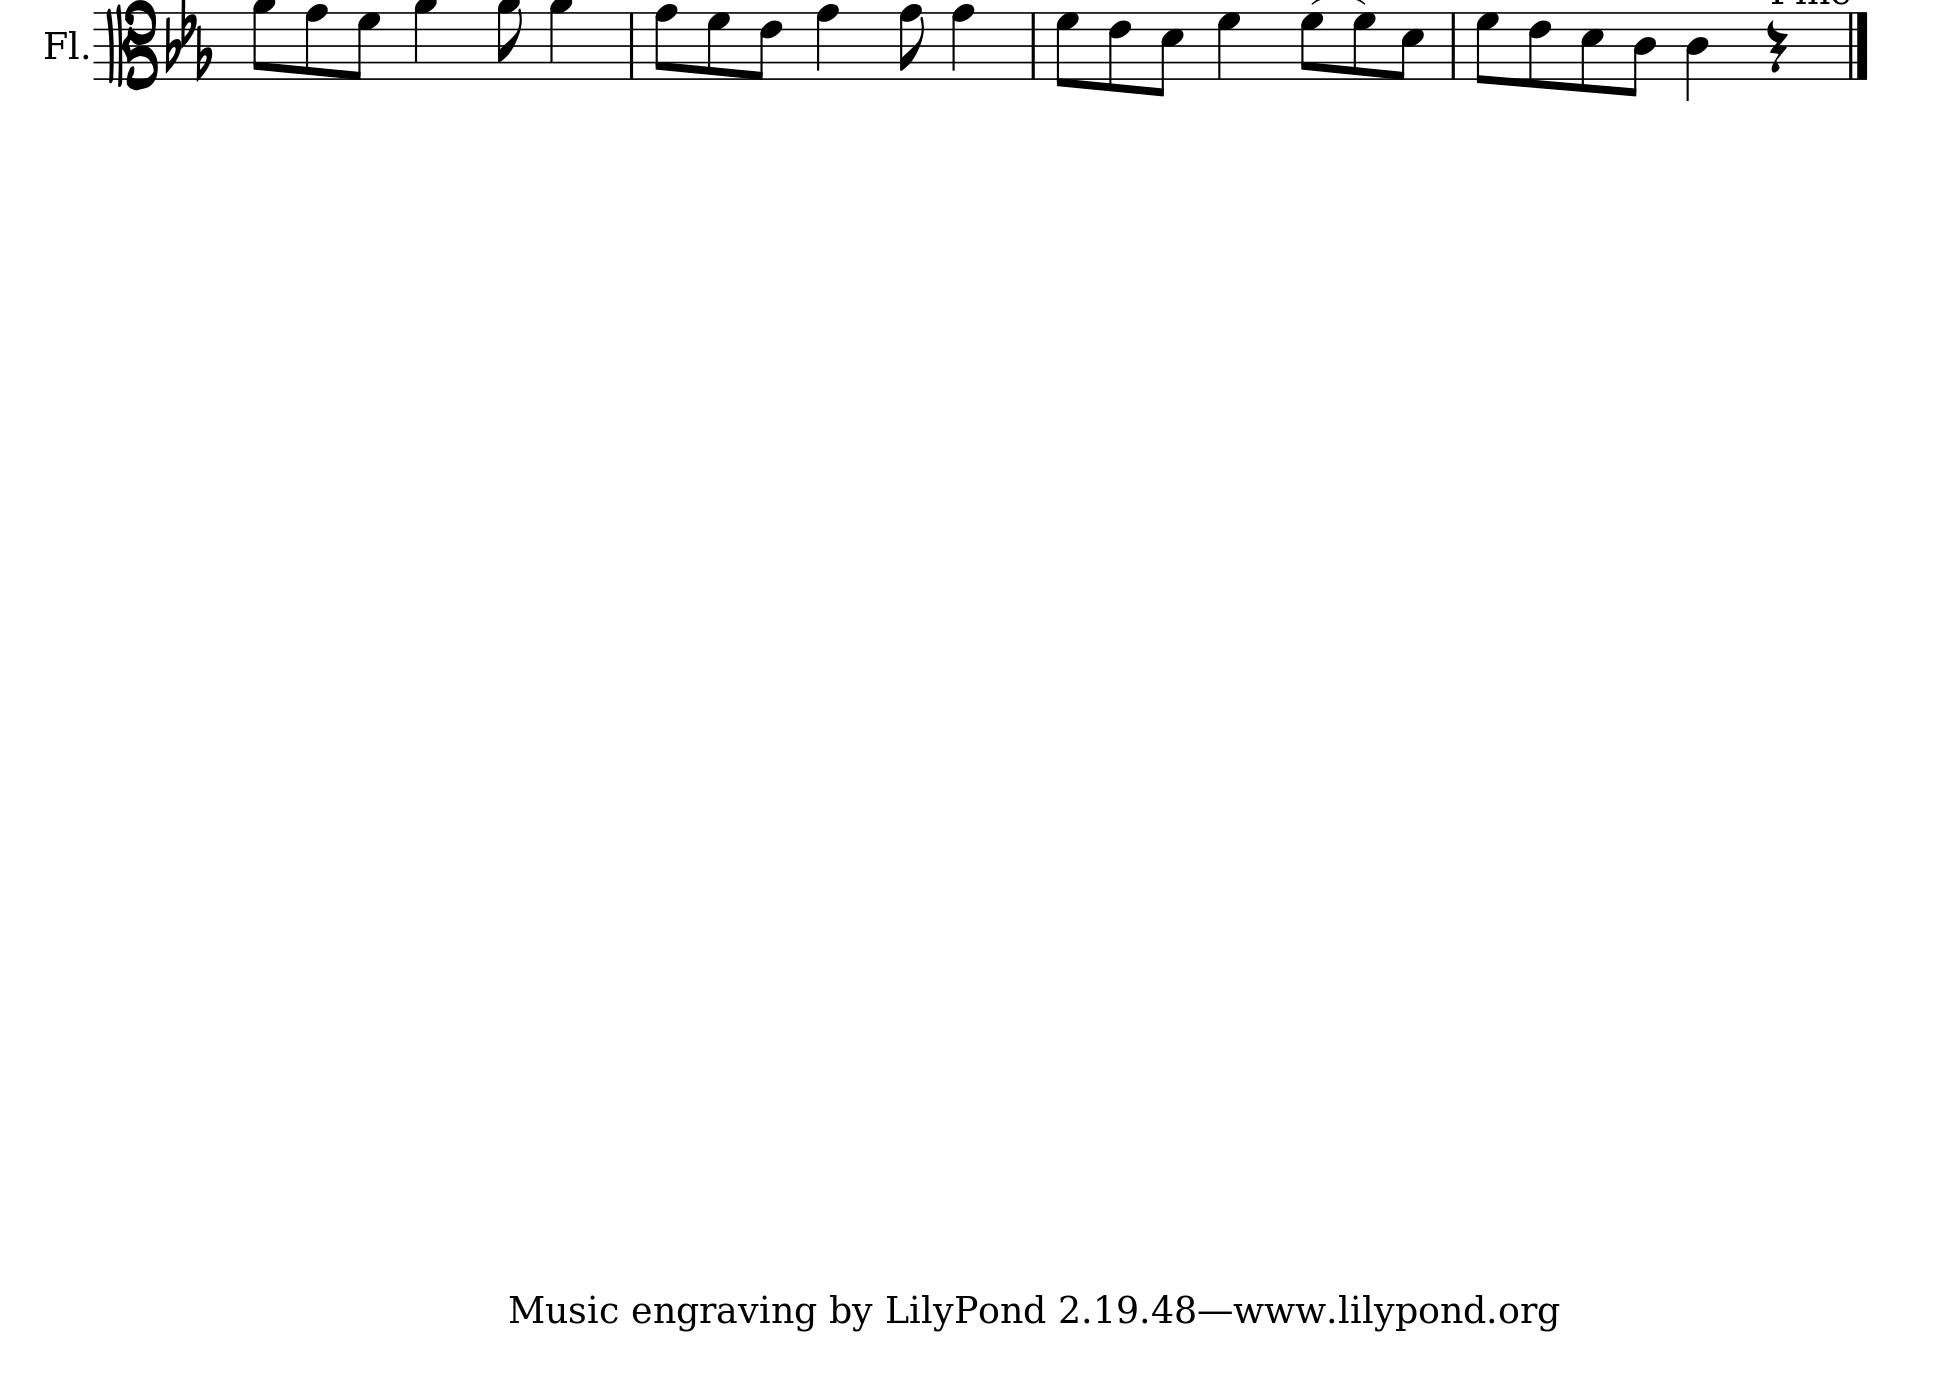4_8: (816, 3, 840, 81)
4_9: (412, 1, 439, 81), (549, 1, 574, 82)
8_6: (754, 10, 781, 79)
8_7: (352, 10, 382, 81), (706, 10, 730, 79)
8_8: (304, 3, 328, 79), (655, 4, 679, 79)
8_9: (496, 1, 523, 79), (252, 1, 277, 81)
Cclef: (105, 1, 160, 91)
E_F: (162, 1, 214, 81)
Final_barline: (1845, 10, 1872, 79)
Fl: (43, 28, 78, 63)
Single_barline: (622, 12, 640, 78), (1026, 12, 1042, 78), (1446, 12, 1461, 78)
Slur: (1308, 1, 1369, 7)
